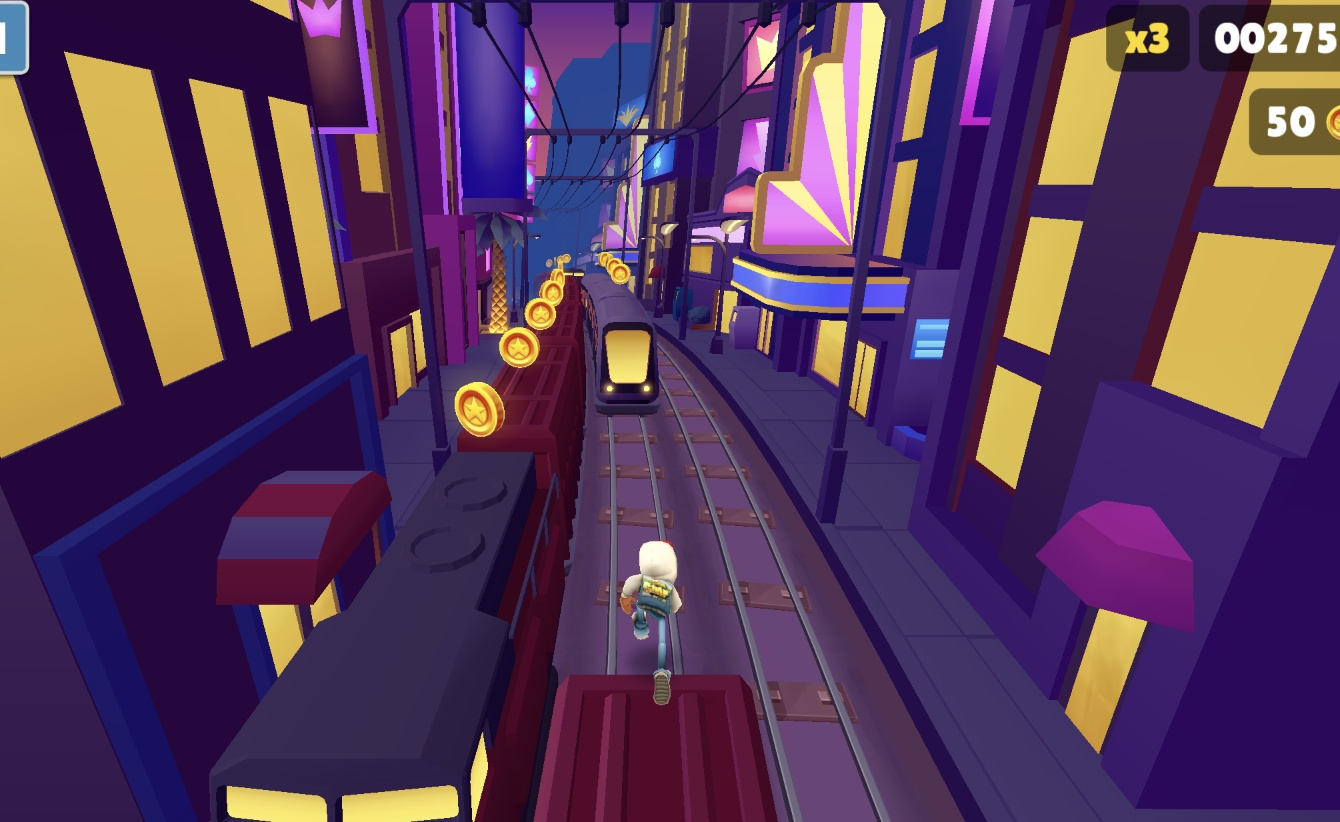train: (208, 270, 596, 822), (507, 671, 775, 822), (569, 270, 668, 417)
